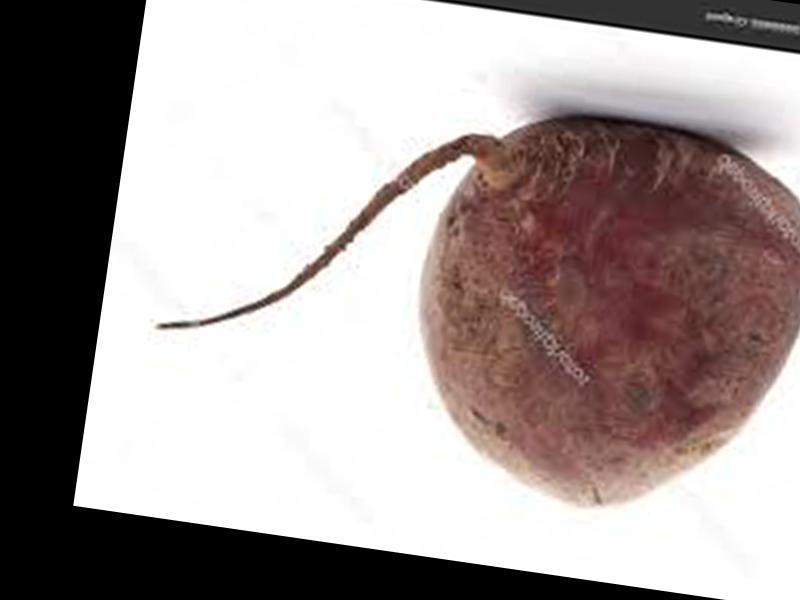Beet: (143, 59, 800, 530)
